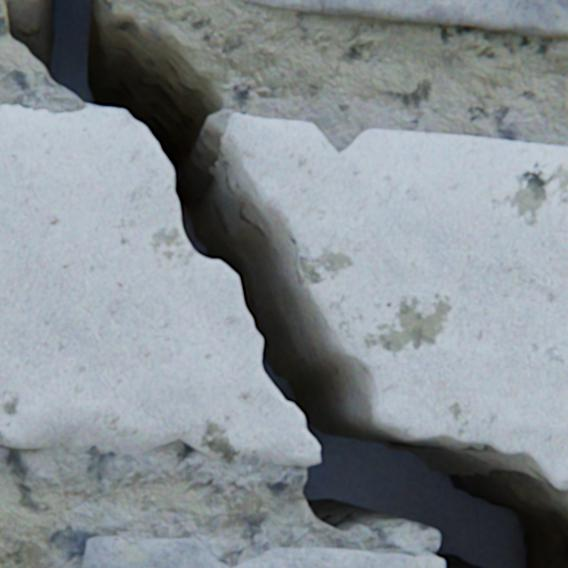brick: (234, 0, 567, 37)
broken_brick: (223, 114, 567, 489), (0, 105, 319, 465), (83, 535, 444, 567)
crack: (0, 0, 567, 567)
